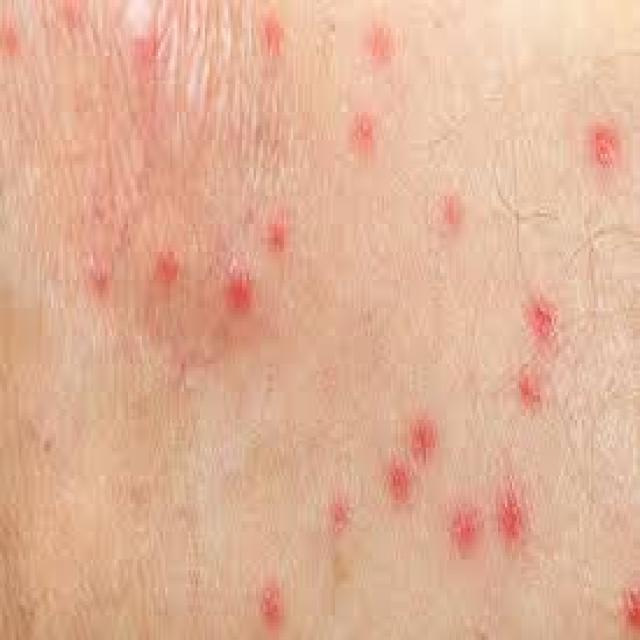kan emici bocekler: (364, 12, 433, 77), (431, 181, 484, 257), (264, 211, 324, 270), (244, 9, 301, 69), (509, 366, 570, 418), (342, 96, 388, 164), (146, 244, 189, 310), (405, 407, 450, 469), (522, 285, 565, 349), (444, 505, 489, 562), (85, 253, 125, 310), (222, 255, 256, 322), (589, 120, 622, 185), (129, 19, 171, 70), (610, 571, 640, 640), (258, 580, 294, 626), (326, 497, 365, 532), (391, 469, 419, 516)
